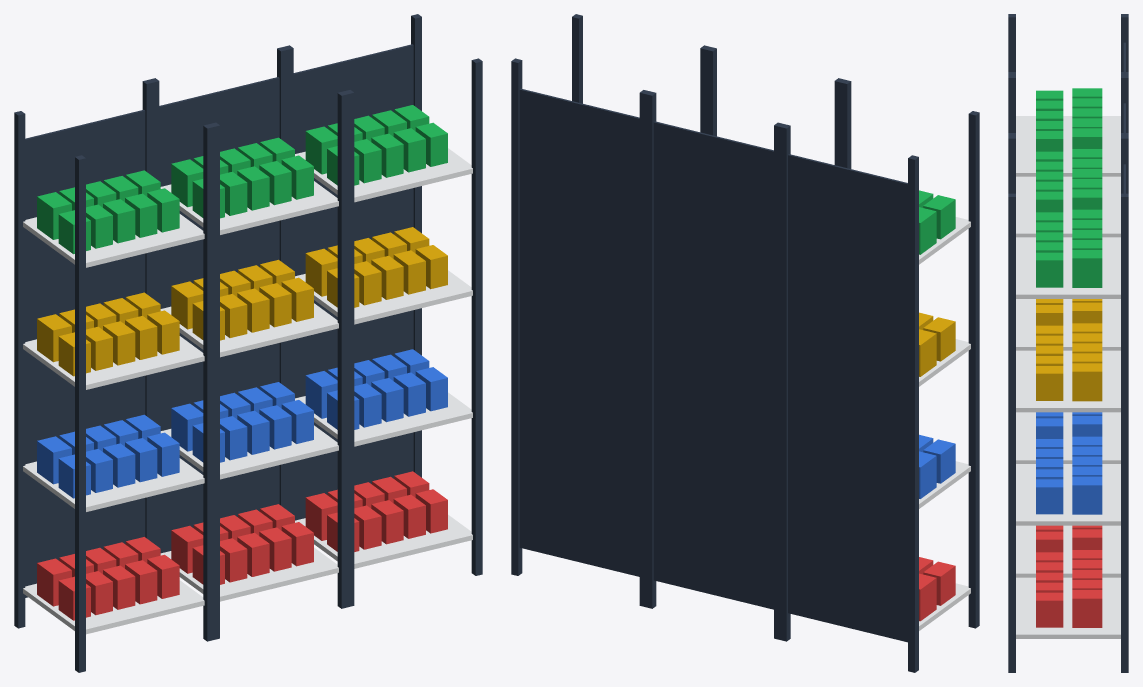
The model's file is shop_furniture_new.glb.
The picture shows the model from 3 angles, left to right: view 1: azimuth 30°, elevation 25°; view 2: azimuth 150°, elevation 25°; view 3: azimuth 270°, elevation 25°; orthographic projection. The views are drawn at different scales.
Visible parts, largest first — view 1: Shelf_Frame, Shelf_Plates, Goods_Blue, Goods_Yellow, Goods_Red, Goods_Green; view 2: Shelf_Frame, Shelf_Plates, Goods_Red, Goods_Blue, Goods_Green, Goods_Yellow; view 3: Shelf_Plates, Goods_Green, Shelf_Frame, Goods_Blue, Goods_Red, Goods_Yellow.
Boxes of the visible parts, left/top/right/bottom form: Shelf_Frame: left=14, top=14, right=482, bottom=672; Shelf_Plates: left=23, top=148, right=472, bottom=634; Goods_Blue: left=37, top=349, right=447, bottom=498; Goods_Yellow: left=37, top=227, right=447, bottom=376; Goods_Red: left=37, top=471, right=447, bottom=620; Goods_Green: left=37, top=105, right=447, bottom=254; Shelf_Frame: left=511, top=14, right=979, bottom=672; Shelf_Plates: left=919, top=217, right=970, bottom=630; Goods_Red: left=919, top=557, right=955, bottom=621; Goods_Blue: left=919, top=434, right=955, bottom=498; Goods_Green: left=919, top=190, right=955, bottom=254; Goods_Yellow: left=919, top=312, right=955, bottom=376; Shelf_Plates: left=1016, top=116, right=1120, bottom=638; Goods_Green: left=1036, top=88, right=1102, bottom=287; Shelf_Frame: left=1008, top=14, right=1128, bottom=672; Goods_Blue: left=1036, top=412, right=1102, bottom=514; Goods_Red: left=1036, top=525, right=1102, bottom=627; Goods_Yellow: left=1036, top=299, right=1102, bottom=401.
Size of the model in its own units: 6920 by 8400 by 1920.
